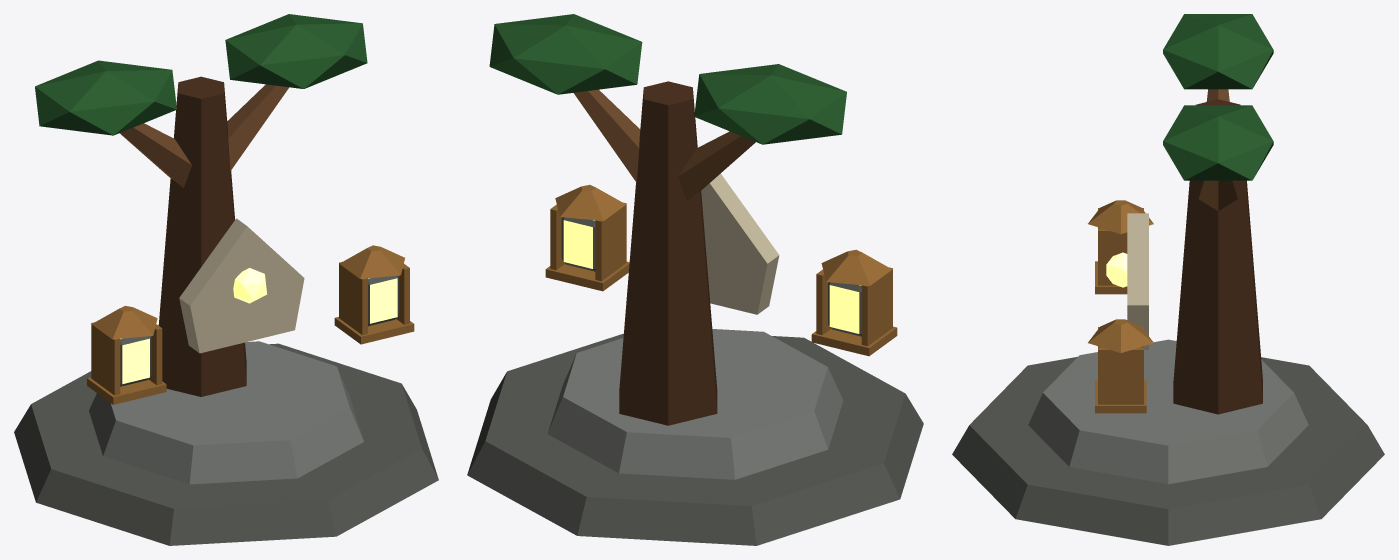
Rendered from keeper_shrine.glb.
3 renders of one model, left to right at view 1: azimuth 30°, elevation 25°; view 2: azimuth 150°, elevation 25°; view 3: azimuth 270°, elevation 25°, orthographic. The views are drawn at different scales.
Parts seen in each view (by area): view 1: keeper_shrine; view 2: keeper_shrine; view 3: keeper_shrine.
Boxes of the visible parts, x1,y1,x2,y2 form: keeper_shrine: (14, 14, 438, 545); keeper_shrine: (467, 14, 923, 545); keeper_shrine: (952, 14, 1384, 545).
Bounding box in the file's own units: 2 × 1.96 × 2.
